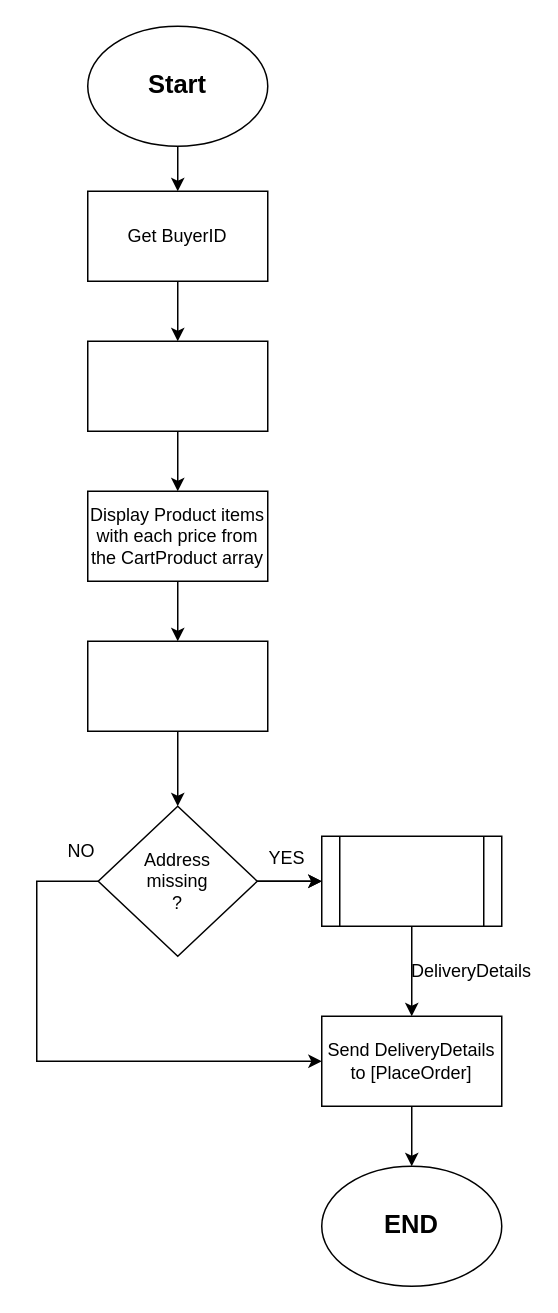
Image size: 558x1313. Some labels were removed from this diagram. The centre of each missing label's shape, as x and y in pixels:
AddAddress: the point at 411,880
Display Total cost: the point at 177,685
Get CartProduct array form the users table using BuyerID: the point at 177,385
